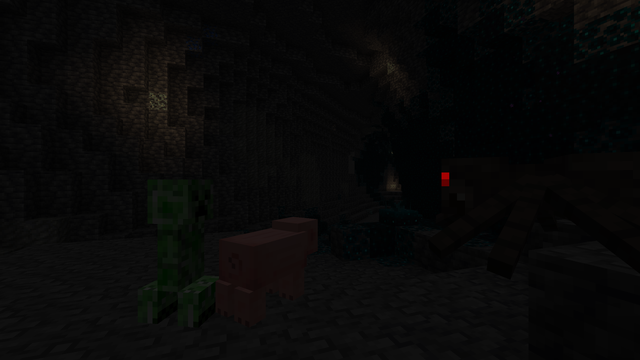araignees: (409, 127, 627, 296)
cochons: (230, 225, 307, 323)
creepers: (146, 172, 210, 331)
